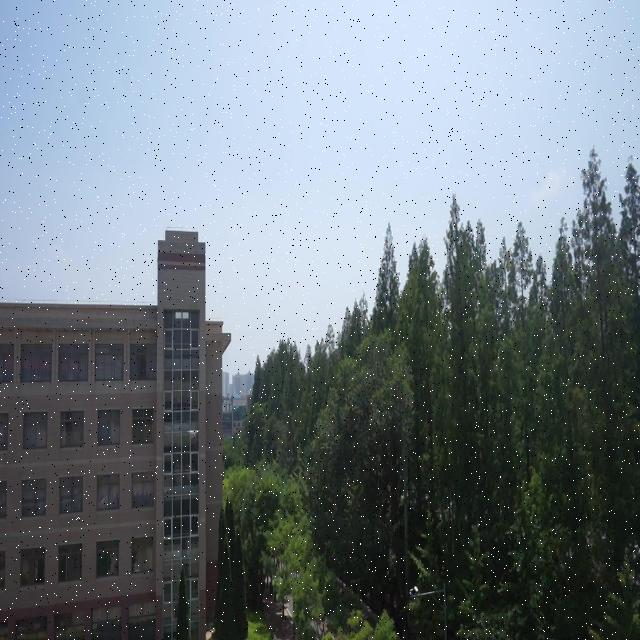UAV: (187, 430, 199, 438)
